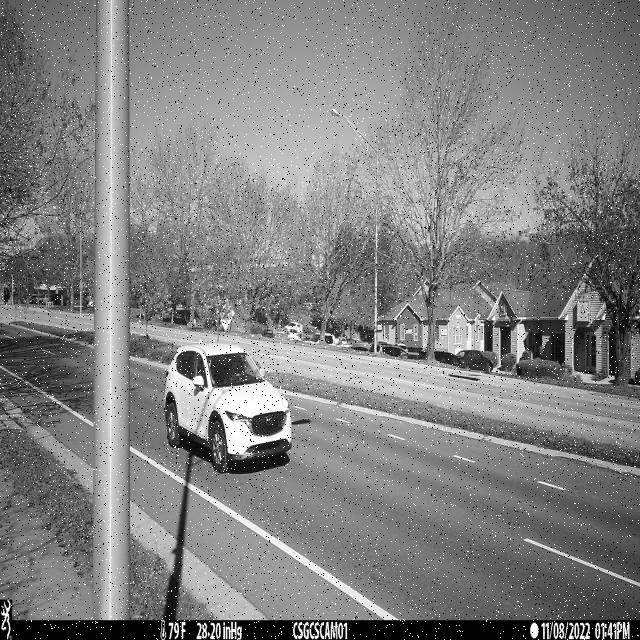SUV: (164, 343, 291, 474)
